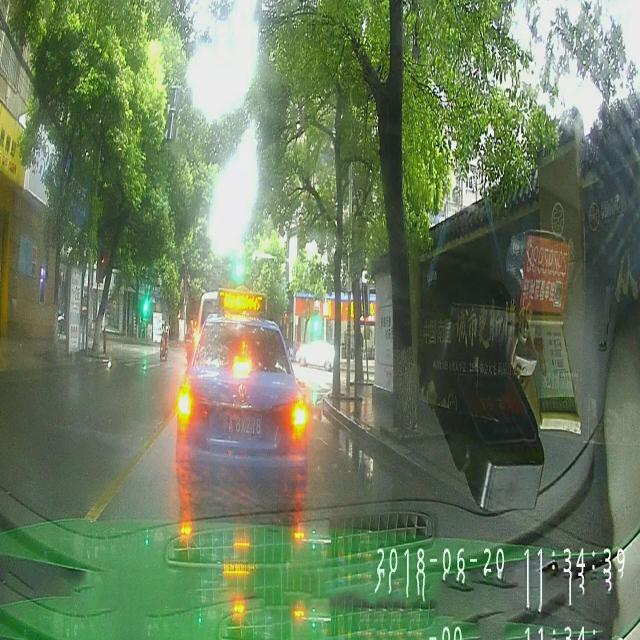car: (176, 288, 307, 510), (196, 292, 232, 339)
